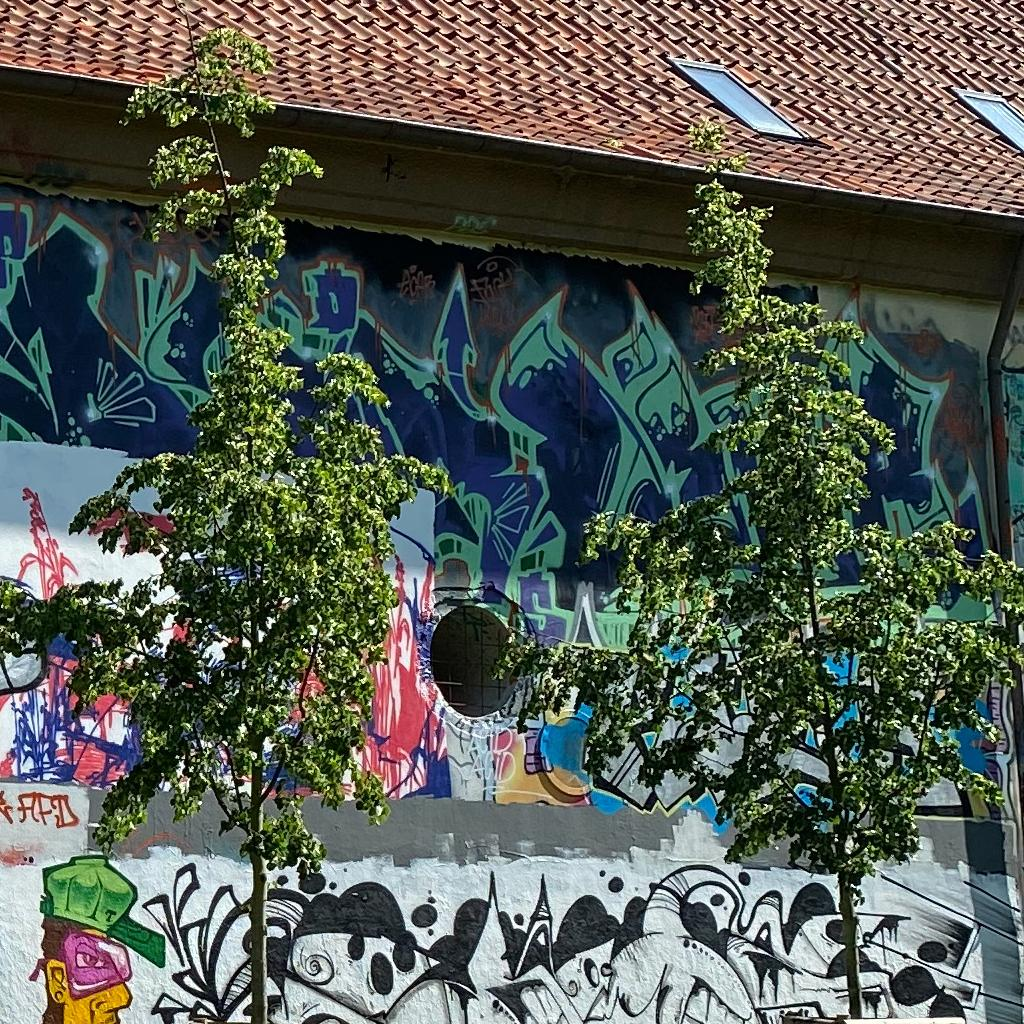tree: (490, 116, 1023, 1020), (1, 10, 454, 1024)
